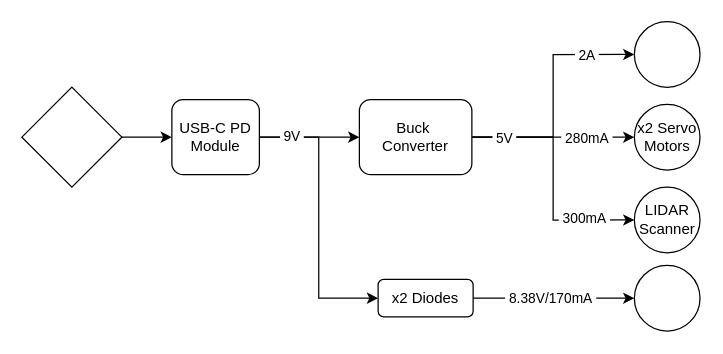
The diagram is 723 pixels wide and 354 high, and some of its shapes have lost their labels. The shapes that lost their labels are listed below. From the top down, each one's centre as x and y in pixels, then its label:
(x=666, y=53): Rock 5B SBC
(x=71, y=136): Power Bank 9V/3A
(x=666, y=297): LIDAR Motor
